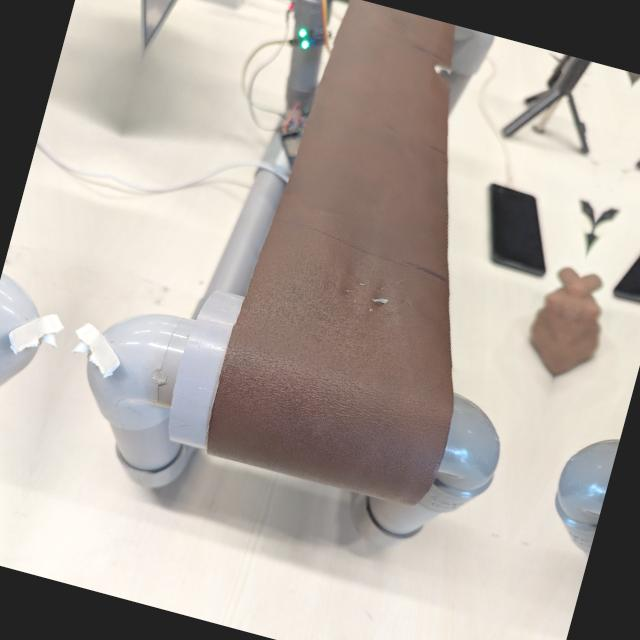belt_crack: (324, 256, 432, 337)
belt_tear: (416, 50, 459, 88)
